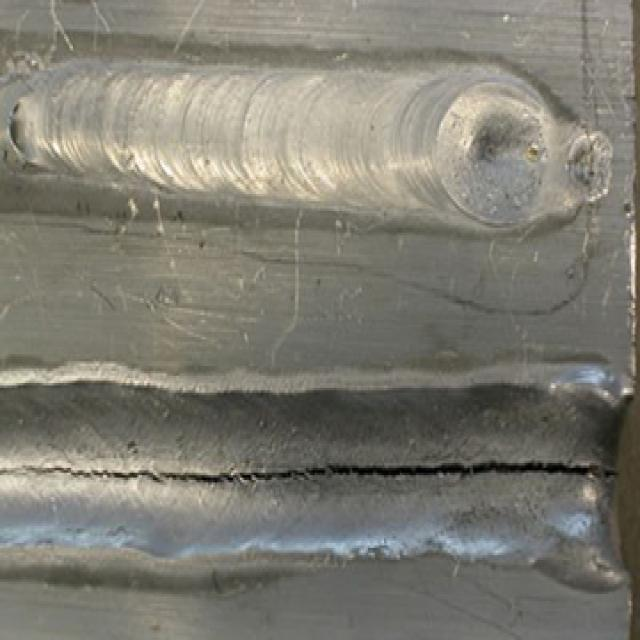Crack: (1, 387, 621, 570)
Good Welding: (0, 63, 612, 232)
